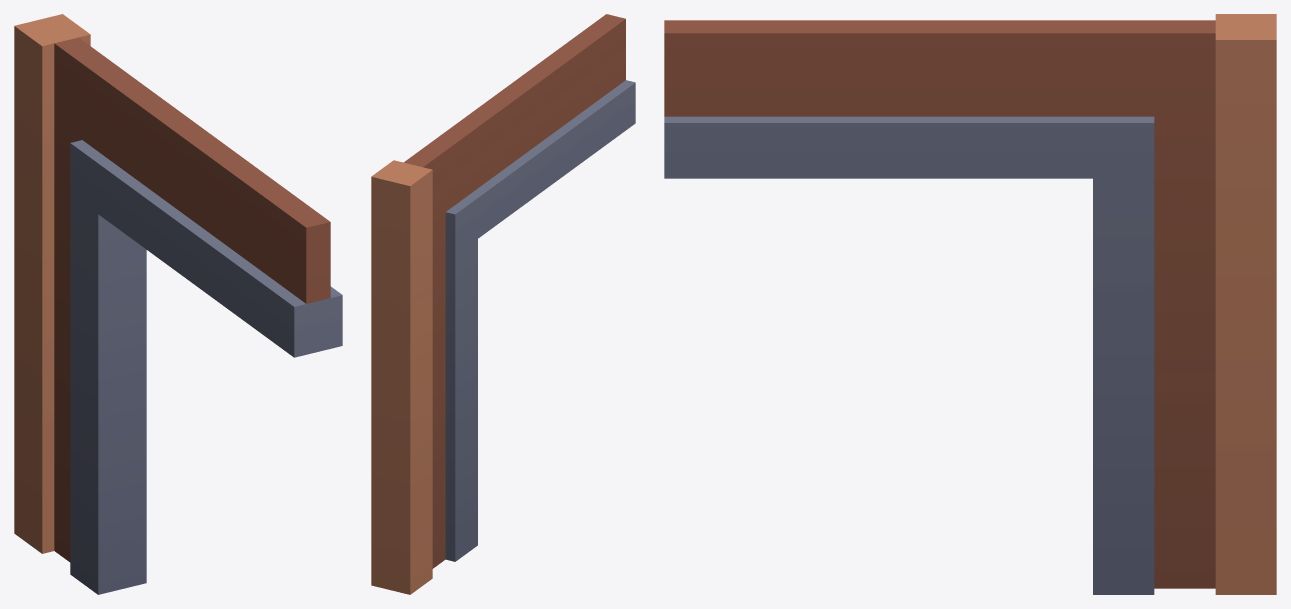
File: wall-wood-doorway-square-wide.glb
3 renders of one model, left to right at view 1: azimuth 30°, elevation 25°; view 2: azimuth 150°, elevation 25°; view 3: azimuth 270°, elevation 25°, orthographic. The views are drawn at different scales.
Visible parts, largest first — view 1: wall-wood-doorway-square-wide; view 2: wall-wood-doorway-square-wide; view 3: wall-wood-doorway-square-wide.
Boxes of the visible parts, left/top/right/bottom form: wall-wood-doorway-square-wide: left=14, top=14, right=342, bottom=594; wall-wood-doorway-square-wide: left=371, top=14, right=635, bottom=594; wall-wood-doorway-square-wide: left=664, top=14, right=1276, bottom=594.
Bounding box in the file's own units: 0.1 × 1 × 1.
1 material, 1 textured.
